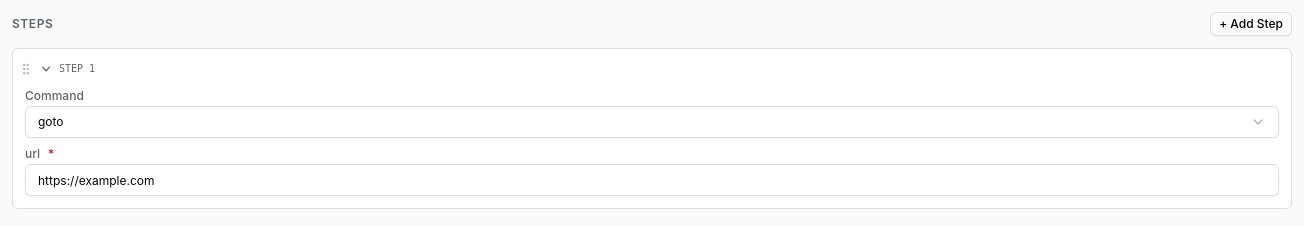
Scenario: StepBuilder › collapsing › collapses when the header is clicked
Click the button "STEP 1" at x=74, y=68, box [39,49,1291,88]
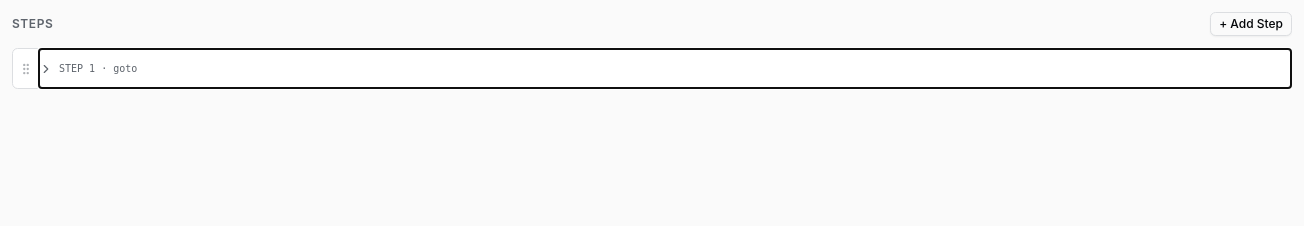
Check: the text "Command" is gone
